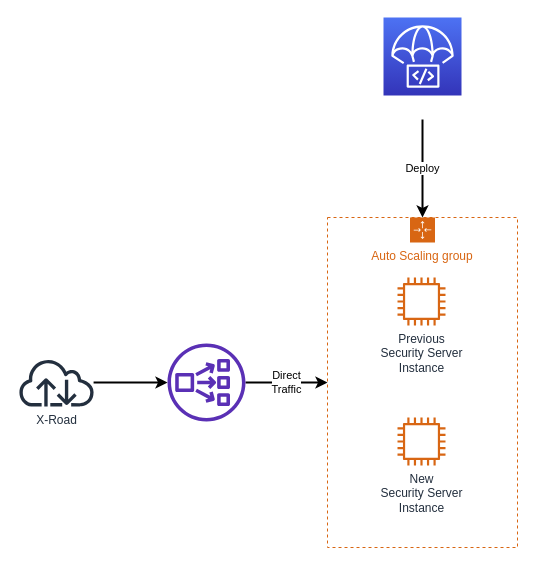
This 535x565 diagram has some shape labels left out. The centre of each missing label's shape, as x and y in pixels:
CodeDeploy: point (422, 56)
Network Load Balancer: point (206, 382)
